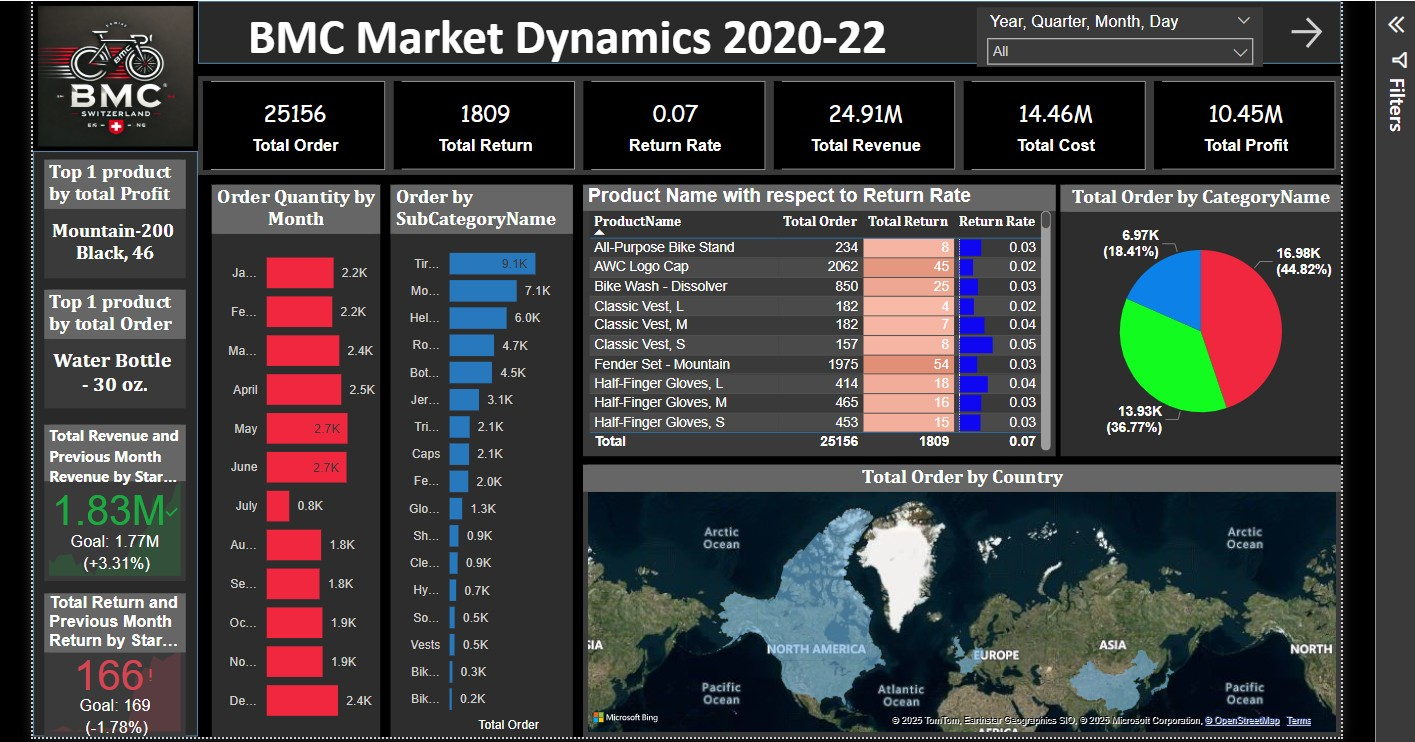

Layout of this report page (visuals, bound fields, positions):
{"tool":"powerbi","page":{"name":"Sales Insides","canvas":[1280,720],"ordinal":0},"visuals":[{"type":"shape","title":"BMC Switzerland","box":[161.4,0,1118.6,61.4],"z":0},{"type":"shape","box":[0,147.1,161.4,572.9],"z":1000},{"type":"image","box":[0,0,161.4,147.1],"z":2000},{"type":"shape","box":[161.4,72.9,1118.6,82.9],"z":3000},{"type":"cardVisual","fields":{"Data":["KPI Home.Total Order","KPI Home.Total Return","KPI Home.Return Rate","KPI Home.Total Revenue","KPI Home.Total Cost","KPI Home.Total Profit"]},"box":[161.4,72.9,1118.6,97.1],"z":4000},{"type":"textbox","box":[205.7,0,777.1,72.9],"z":5000},{"type":"pieChart","fields":{"Category":["BMCS_Product_Categories_DIM.CategoryName"],"Y":["KPI Home.Total Order"]},"box":[1005.2,179.8,275.1,265.4],"z":6000},{"type":"slicer","fields":{"Values":["BMCS_Calendar_DIM.Date.Variation.Date Hierarchy.Year","BMCS_Calendar_DIM.Date.Variation.Date Hierarchy.Quarter","BMCS_Calendar_DIM.Date.Variation.Date Hierarchy.Month","BMCS_Calendar_DIM.Date.Variation.Date Hierarchy.Day"]},"box":[923,6.2,280.4,58.3],"z":7000},{"type":"filledMap","fields":{"Category":["BMCS_Territories_DIM.Country"]},"box":[538,453.7,742.3,266.6],"z":8000},{"type":"barChart","title":"Order Quantity by Month","fields":{"Y":["KPI Home.Total Order"],"Category":["BMCS_Calendar_DIM.Date.Variation.Date Hierarchy.Month"]},"box":[174.9,179.8,165.1,540.5],"z":9000},{"type":"barChart","title":"Order by SubCategoryName","fields":{"Y":["KPI Home.Total Order"],"Category":["BMCS_Product_Subcategories_DIM.SubcategoryName"]},"box":[349.7,179.8,178.5,540.5],"z":10000},{"type":"tableEx","title":"Product Name with respect to Return Rate","fields":{"Values":["BMCS_Products_DIM.ProductName","KPI Home.Total Order","KPI Home.Total Return","KPI Home.Return Rate"]},"box":[538,179.8,462.2,265.4],"z":11000},{"type":"card","title":"Top 1 product by total Profit","fields":{"Values":["Min(BMCS_Products_DIM.ProductName)"]},"box":[11.4,155.7,138.6,115.7],"z":12000},{"type":"card","title":"Top 1 product by total Order","fields":{"Values":["Min(BMCS_Products_DIM.ProductName)"]},"box":[11.4,282.9,138.6,115.7],"z":13000},{"type":"kpi","fields":{"Indicator":["KPI Home.Total Revenue"],"Goal":["KPI Home.Previous Month Revenue"],"TrendLine":["BMCS_Calendar_DIM.Start of Month"]},"box":[11.4,414.3,138.6,152.9],"z":14000},{"type":"kpi","fields":{"Indicator":["KPI Home.Total Return"],"Goal":["KPI Home.Previous Month Return"],"TrendLine":["BMCS_Calendar_DIM.Start of Month"]},"box":[11.4,580,138.6,140],"z":15000},{"type":"actionButton","box":[1225.7,11.2,54.6,39.7],"z":16000}]}

Visuals, with their boxes on the page's 1280x720 design canvas (x1, y1, x2, y2). These are canvas units, not pixel positions in the 1415x742 screenshot, which may show the page scaled, cropped or inside an application window:
"BMC Switzerland" shape: 161:0:1280:61
shape: 0:147:161:720
image: 0:0:161:147
shape: 161:73:1280:156
cardVisual - KPI Home.Total Order x KPI Home.Total Return: 161:73:1280:170
textbox: 206:0:983:73
pieChart - BMCS_Product_Categories_DIM.CategoryName x KPI Home.Total Order: 1005:180:1280:445
slicer - BMCS_Calendar_DIM.Date.Variation.Date Hierarchy.Year x BMCS_Calendar_DIM.Date.Variation.Date Hierarchy.Quarter: 923:6:1203:64
filledMap - BMCS_Territories_DIM.Country: 538:454:1280:720
"Order Quantity by Month" barChart: 175:180:340:720
"Order by SubCategoryName" barChart: 350:180:528:720
"Product Name with respect to Return Rate" tableEx: 538:180:1000:445
"Top 1 product by total Profit" card: 11:156:150:271
"Top 1 product by total Order" card: 11:283:150:399
kpi - KPI Home.Total Revenue x KPI Home.Previous Month Revenue: 11:414:150:567
kpi - KPI Home.Total Return x KPI Home.Previous Month Return: 11:580:150:720
actionButton: 1226:11:1280:51
